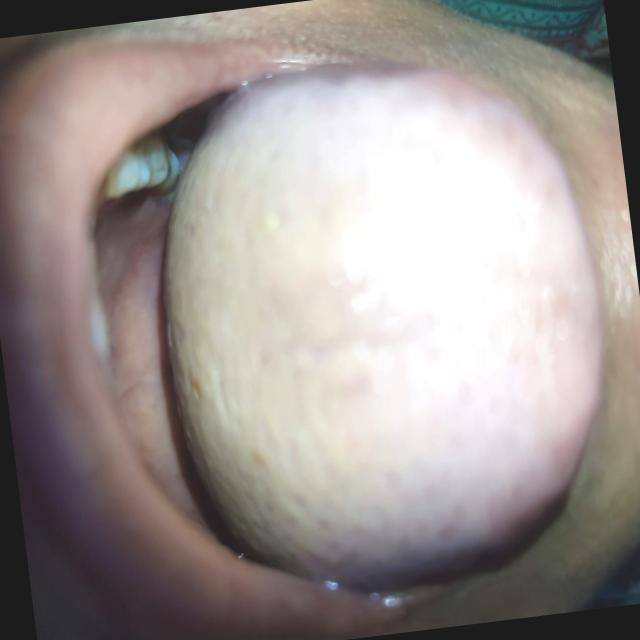No Cancer: (197, 108, 584, 508)
